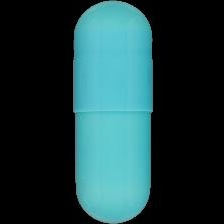50268-278: (0, 0, 224, 224)
